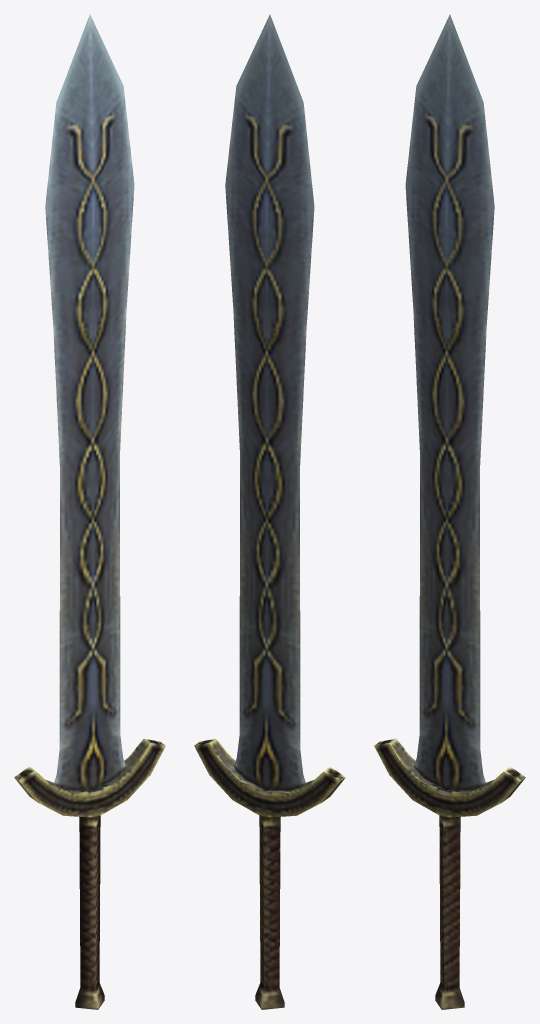
The model's file is TH_Sword06.FBX.
The picture shows the model from 3 angles, left to right: view 1: azimuth 30°, elevation 25°; view 2: azimuth 150°, elevation 25°; view 3: azimuth 330°, elevation 25°; orthographic projection.
Visible parts, largest first — view 1: TH_Sword06; view 2: TH_Sword06; view 3: TH_Sword06.
Part boxes in pixels (left/top/right/bottom): TH_Sword06: left=14, top=14, right=165, bottom=1009; TH_Sword06: left=194, top=14, right=345, bottom=1009; TH_Sword06: left=374, top=14, right=525, bottom=1009.
Size of the model in its own units: 23.93 by 155 by 4.64.
